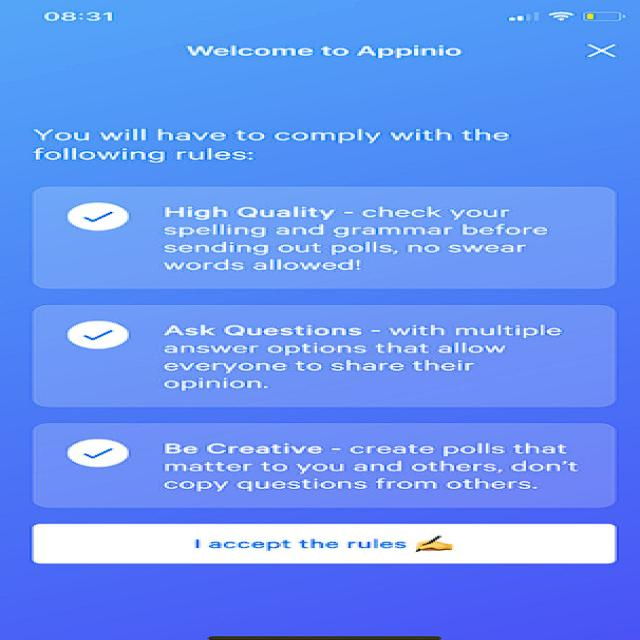button: (16, 520, 631, 571)
icon button: (572, 34, 640, 64)
row: (16, 178, 628, 296), (16, 303, 631, 412), (13, 417, 631, 512)
text: (155, 317, 580, 392), (158, 204, 576, 273), (28, 114, 542, 167), (163, 434, 588, 496), (152, 38, 494, 68)
view: (52, 429, 141, 477), (55, 194, 141, 242), (52, 317, 138, 361)
